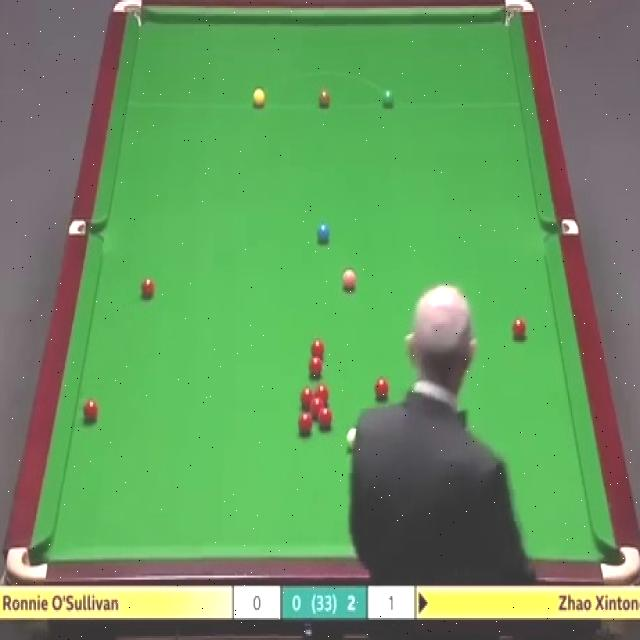blue-ball: (317, 221, 330, 247)
brown-ball: (318, 89, 330, 108)
green-ball: (382, 89, 395, 108)
pink-ball: (342, 268, 357, 291)
red-ball: (141, 275, 156, 302), (83, 399, 99, 424), (374, 377, 389, 403), (296, 414, 312, 436), (300, 388, 316, 410), (312, 398, 326, 422), (512, 316, 526, 340), (319, 409, 333, 431), (310, 338, 325, 358), (310, 358, 324, 378), (316, 384, 328, 404)
white-ball: (345, 427, 356, 449)
yellow-ball: (252, 89, 266, 108)
